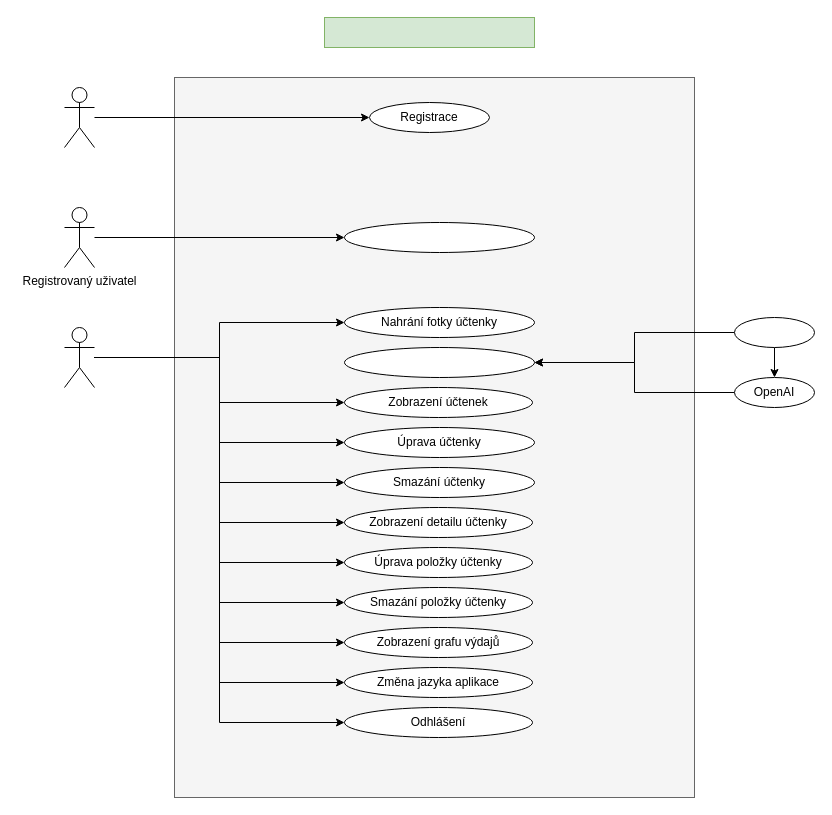
Image size: 832x815. Some labels were removed from this diagram. Here are the shapes that lost their labels. From the top down, the centre of each, then its label:
[429,32]: USE CASE DIAGRAM
[79,117]: Neregistrovaný uživatel
[439,237]: Přihlášení
[774,332]: AzureOCR
[79,357]: Přihlášený uživatel
[439,362]: Zpracování účtenky
